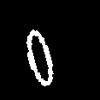chain: (27, 30, 52, 85)
